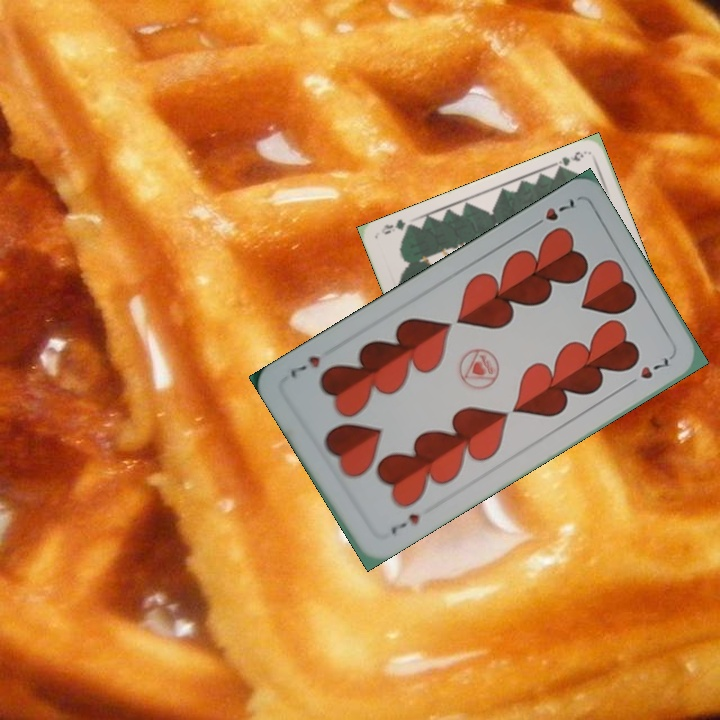G9: (550, 147, 589, 173)
H7: (526, 194, 577, 232), (386, 509, 422, 537)
